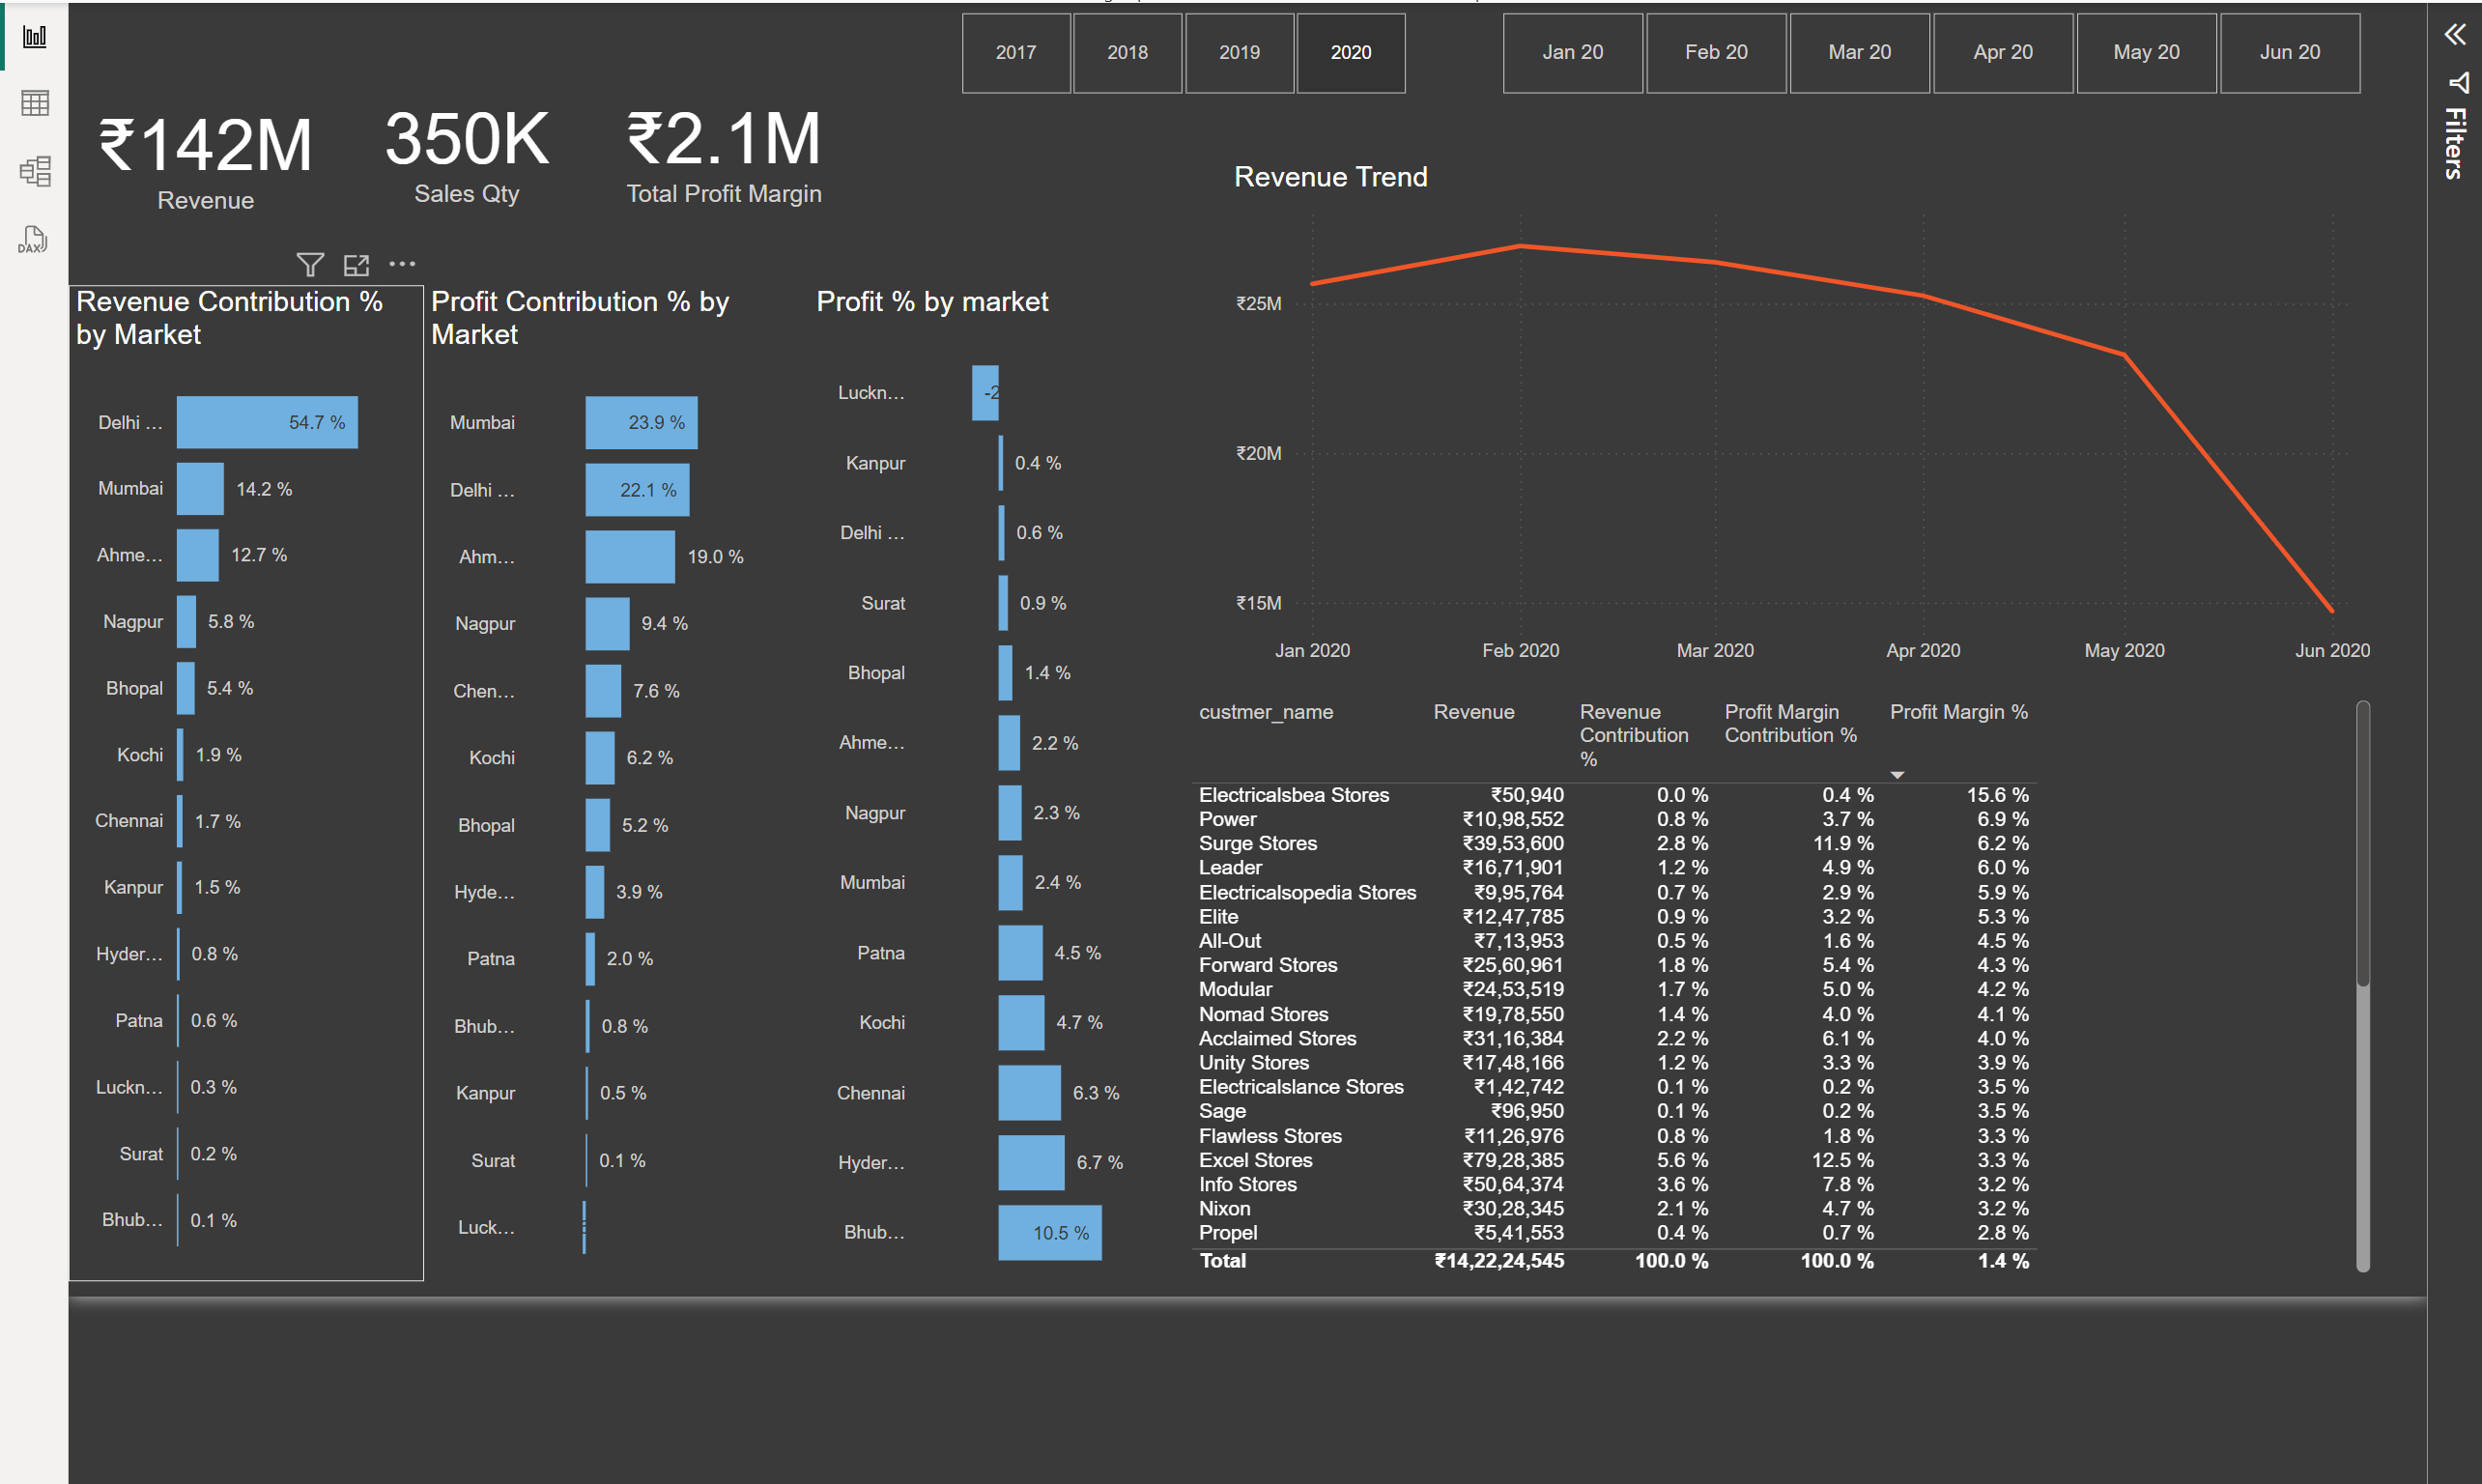

What the dashboard file says about the page in this screenshot:
{"tool":"powerbi","page":{"name":"Profit Analysis","canvas":[1550,850],"ordinal":1},"visuals":[{"type":"card","fields":{"Values":["BaseMeasures (2).Revenue"]},"box":[0,11.9,180.2,173.4],"z":0},{"type":"card","fields":{"Values":["BaseMeasures (2).Sales Qty"]},"box":[180.2,11.9,163.2,164.9],"z":1000},{"type":"barChart","title":"Profit % by market","fields":{"Y":["BaseMeasures (2).Profit Margin %"],"Category":["sales markets.markets_name"]},"box":[486.2,185.3,234.6,664.7],"z":2000},{"type":"barChart","title":"Profit Contribution % by Market","fields":{"Y":["BaseMeasures (2).Profit Margin Contribution %"],"Category":["sales markets.markets_name"]},"box":[232.9,185.3,222.7,659.6],"z":3000},{"type":"slicer","fields":{"Values":["sales date.year"]},"box":[561,0,341.7,66.3],"z":4000},{"type":"slicer","fields":{"Values":["sales date.cy_date"]},"box":[916.3,0,613.7,66.3],"z":5000},{"type":"tableEx","title":"Top 5 Customers","fields":{"Values":["sales customers.custmer_name","BaseMeasures (2).Revenue","BaseMeasures (2).Revenue Contribution %","BaseMeasures (2).Profit Margin Contribution %","BaseMeasures (2).Profit Margin %"]},"box":[732.7,453.9,785.4,385.9],"z":6000},{"type":"lineChart","title":"Revenue Trend","fields":{"Y":["BaseMeasures (2).Revenue"],"Category":["sales date.cy_date"]},"box":[761.6,103.7,756.5,338.3],"z":7000},{"type":"card","fields":{"Values":["BaseMeasures (2).Total Profit Margin"]},"box":[350.2,11.9,161.5,164.9],"z":8000},{"type":"barChart","title":"Revenue Contribution % by Market","fields":{"Y":["BaseMeasures (2).Revenue Contribution %"],"Category":["sales markets.markets_name"]},"box":[0,185.3,232.9,654.5],"z":9000}]}

Visuals, with their boxes on the page's 1550x850 design canvas (x1, y1, x2, y2). These are canvas units, not pixel positions in the 2482x1484 screenshot, which may show the page scaled, cropped or inside an application window:
card - BaseMeasures (2).Revenue: detection(0, 12, 180, 185)
card - BaseMeasures (2).Sales Qty: detection(180, 12, 343, 177)
"Profit % by market" barChart: detection(486, 185, 721, 850)
"Profit Contribution % by Market" barChart: detection(233, 185, 456, 845)
slicer - sales date.year: detection(561, 0, 903, 66)
slicer - sales date.cy_date: detection(916, 0, 1530, 66)
"Top 5 Customers" tableEx: detection(733, 454, 1518, 840)
"Revenue Trend" lineChart: detection(762, 104, 1518, 442)
card - BaseMeasures (2).Total Profit Margin: detection(350, 12, 512, 177)
"Revenue Contribution % by Market" barChart: detection(0, 185, 233, 840)
